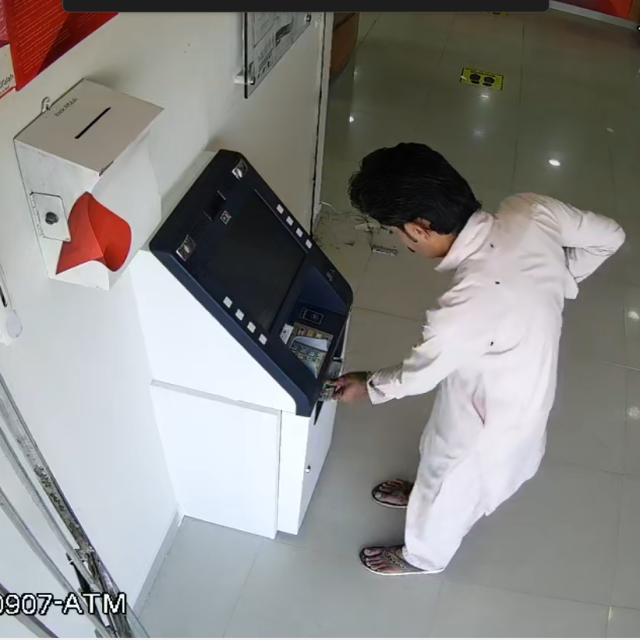note: (306, 347, 358, 408)
